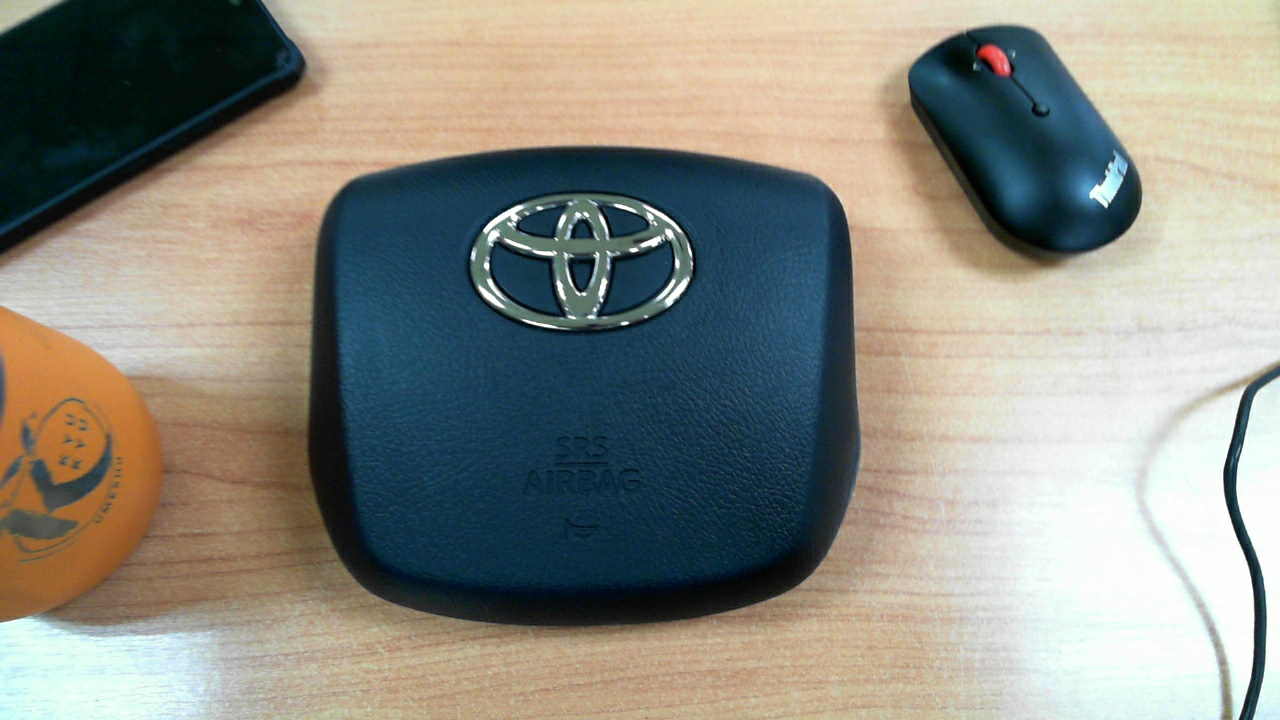Airbag: (264, 113, 895, 640)
